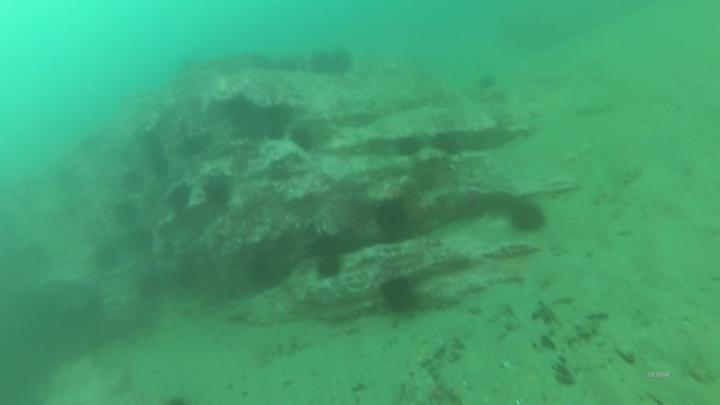echinus: (377, 276, 420, 316), (508, 200, 549, 238), (373, 198, 411, 234), (203, 182, 235, 211), (290, 128, 322, 157), (166, 185, 198, 214), (319, 255, 345, 280), (123, 171, 149, 195)
